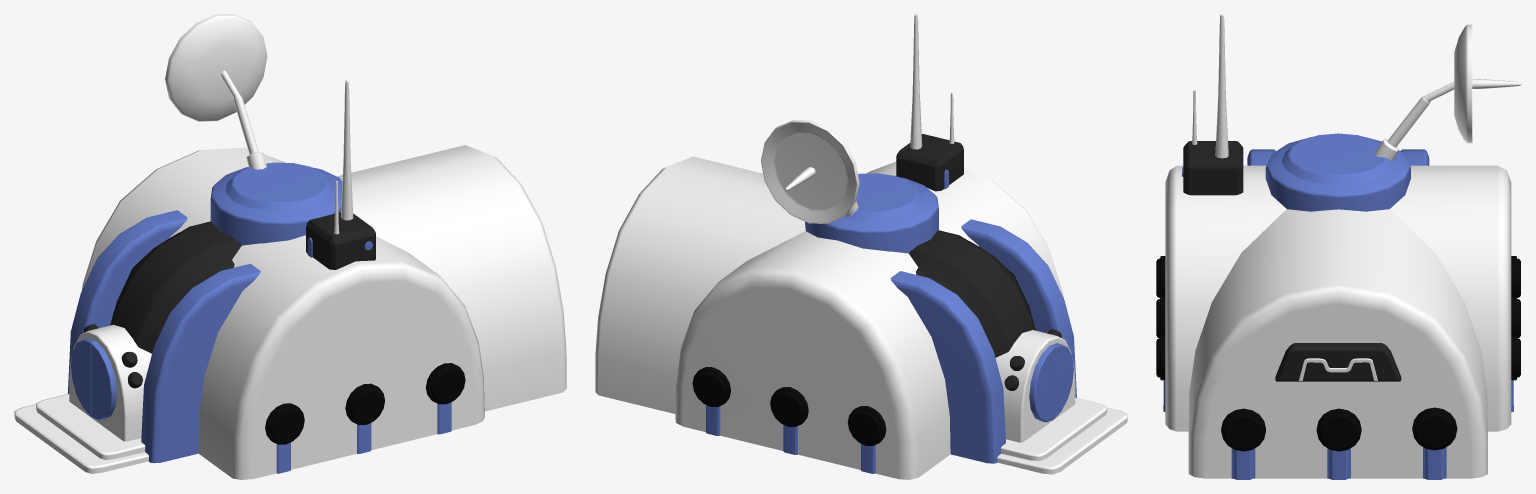
The picture shows the model from 3 angles, left to right: view 1: azimuth 30°, elevation 25°; view 2: azimuth 150°, elevation 25°; view 3: azimuth 270°, elevation 25°; orthographic projection. The views are drawn at different scales.
Parts seen in each view (by area): view 1: Home_colonists; view 2: Home_colonists; view 3: Home_colonists.
Part boxes in pixels (x1,y1,x2,y2): Home_colonists: (14,14,566,479); Home_colonists: (595,14,1127,479); Home_colonists: (1156,14,1521,479).
Size of the model in its own units: 14.59 by 10.56 by 9.72.
Materials: 1 (1 with a texture image).
